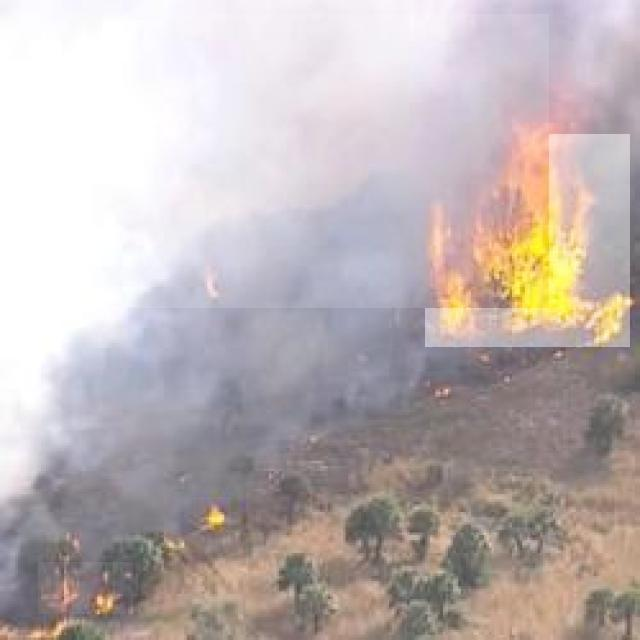Fire: (425, 134, 630, 347), (38, 562, 133, 614), (194, 497, 232, 528)
Smoke: (8, 14, 549, 308)
